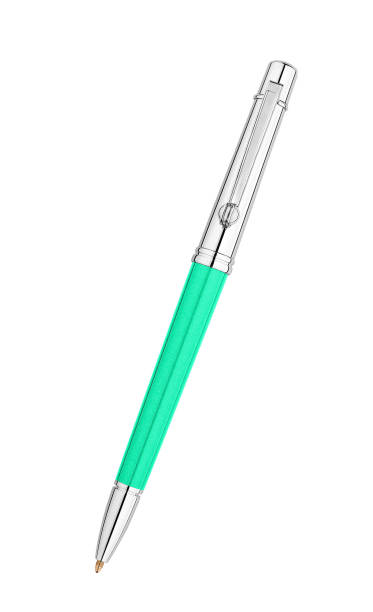pen: (88, 53, 313, 580)
